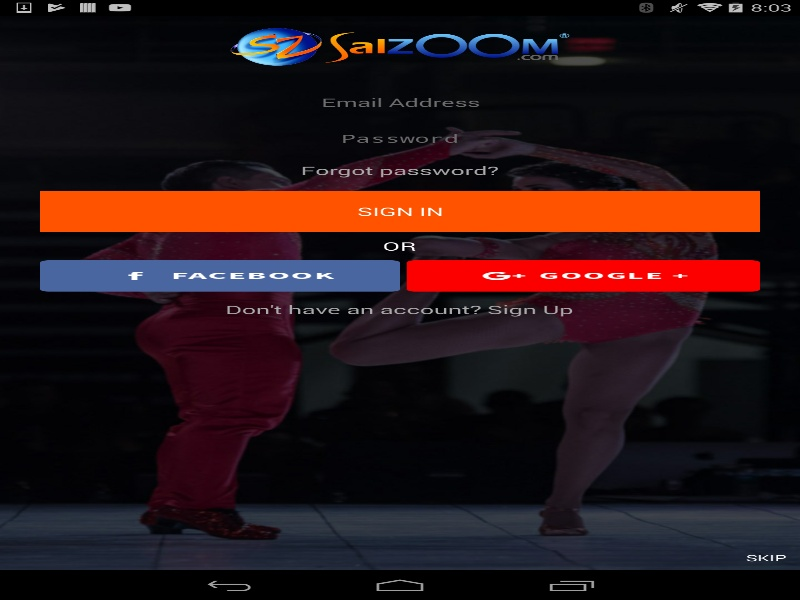Button: (40, 190, 760, 231), (40, 260, 400, 291), (406, 260, 760, 291)
Input: (40, 84, 760, 120), (40, 120, 760, 156)
